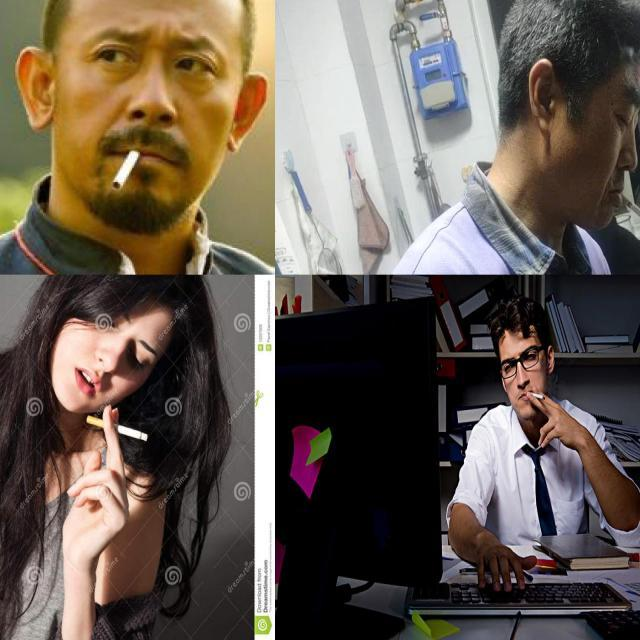cigarette: (82, 414, 150, 444), (102, 141, 138, 190), (618, 192, 640, 229), (528, 391, 546, 402)
